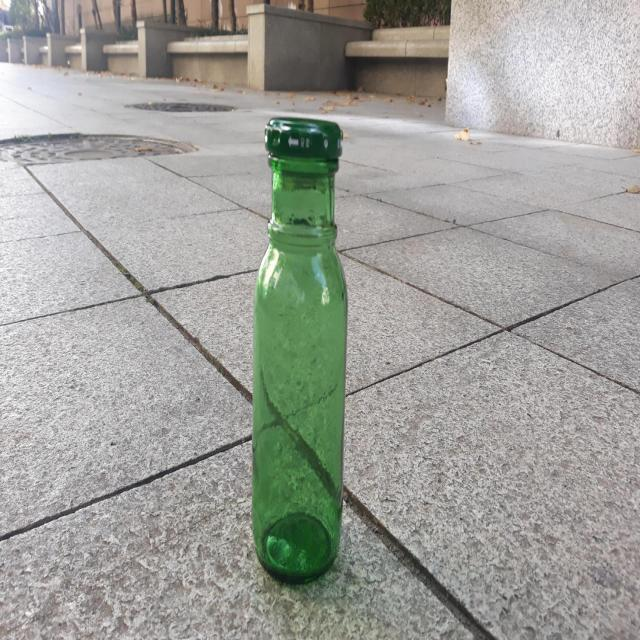glass: (253, 115, 348, 582)
